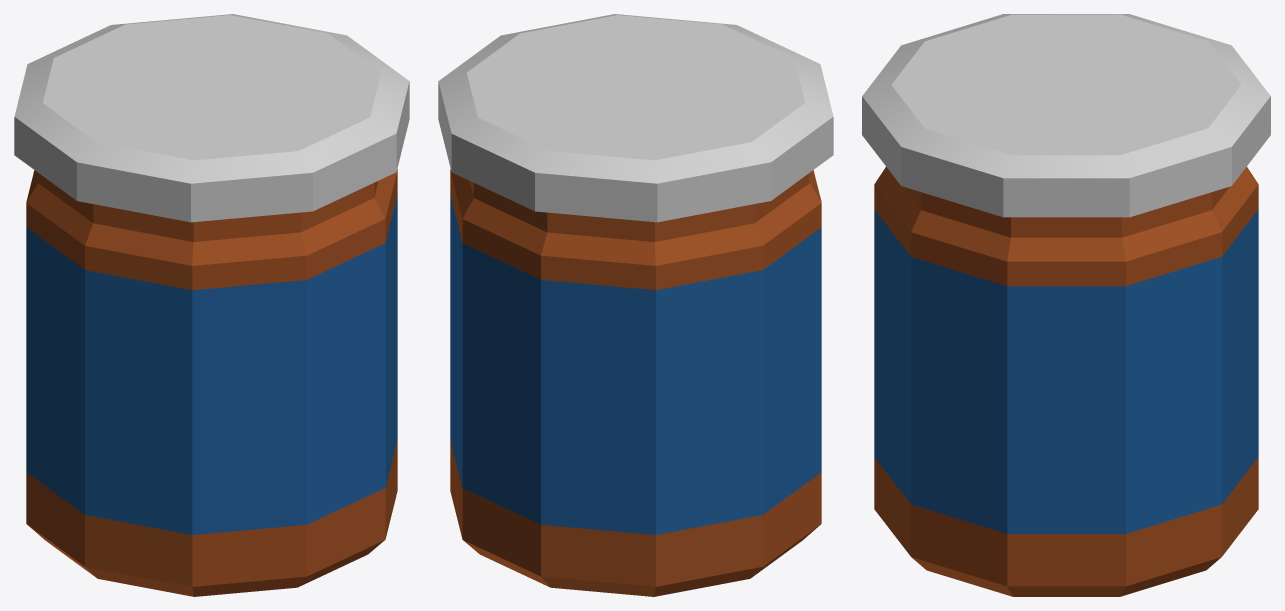
Rendered from Jar_blue.fbx.
The picture shows the model from 3 angles, left to right: view 1: azimuth 30°, elevation 25°; view 2: azimuth 150°, elevation 25°; view 3: azimuth 270°, elevation 25°; orthographic projection.
Visible parts, largest first — view 1: jar_blue18; view 2: jar_blue18; view 3: jar_blue18.
Boxes of the visible parts, x1,y1,x2,y2 form: jar_blue18: [14, 14, 409, 596]; jar_blue18: [438, 14, 833, 596]; jar_blue18: [862, 14, 1270, 596].
Bounding box in the file's own units: 0.1117 × 0.1404 × 0.1174.
